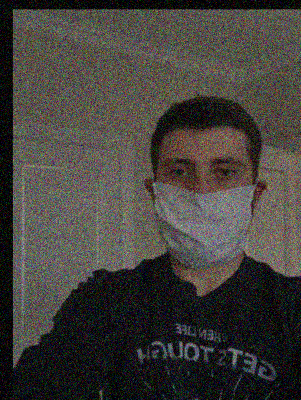with_mask: (149, 145, 253, 269)
